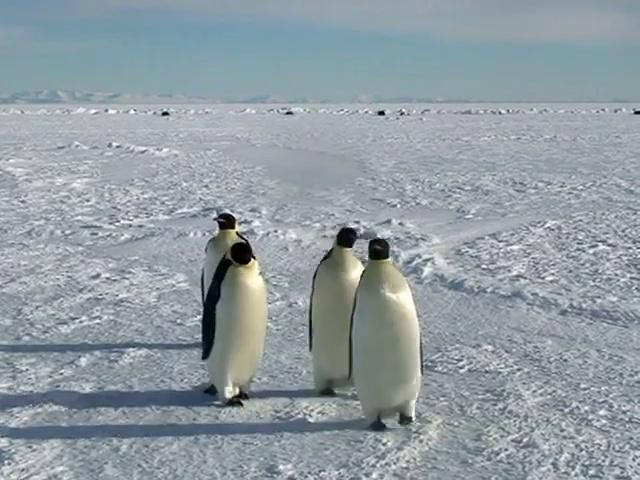animal: (352, 238, 421, 430)
